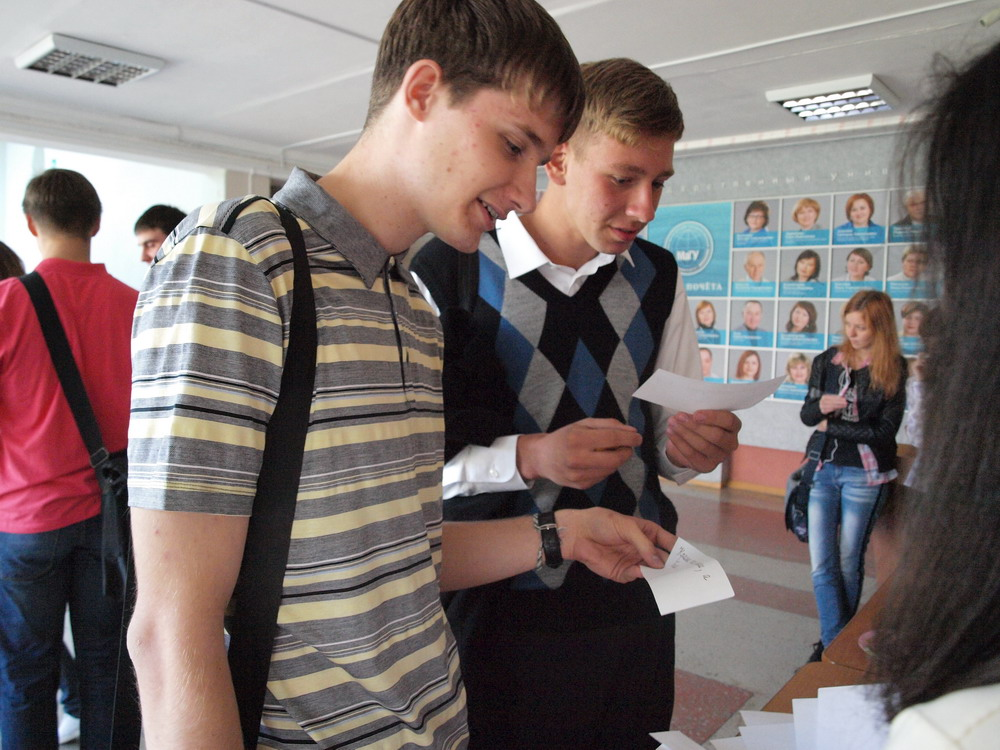students: (127, 1, 679, 748), (431, 57, 740, 748), (1, 168, 140, 749), (785, 288, 904, 665), (905, 306, 956, 519), (134, 202, 192, 272), (899, 189, 934, 225), (843, 193, 877, 229), (894, 247, 930, 281), (841, 248, 878, 281), (786, 304, 820, 337), (792, 195, 823, 230), (785, 353, 817, 386), (900, 302, 929, 338), (736, 350, 765, 384), (741, 202, 771, 234), (791, 248, 820, 281), (741, 250, 770, 281), (740, 299, 765, 333), (693, 302, 719, 330), (698, 347, 715, 376)
